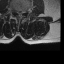CCS_normal: (18, 8, 20, 18)
LFS_normal: (23, 7, 25, 15)
LLS_normal: (21, 8, 23, 17)
RFS_stenosis: (14, 8, 16, 14)
RLS_normal: (16, 8, 18, 16)
